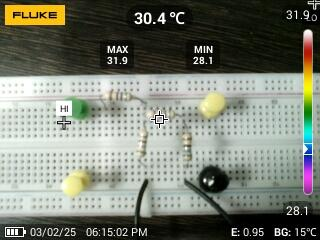resistor: (134, 128, 149, 159), (181, 130, 195, 163), (105, 89, 133, 102), (146, 108, 175, 120)
